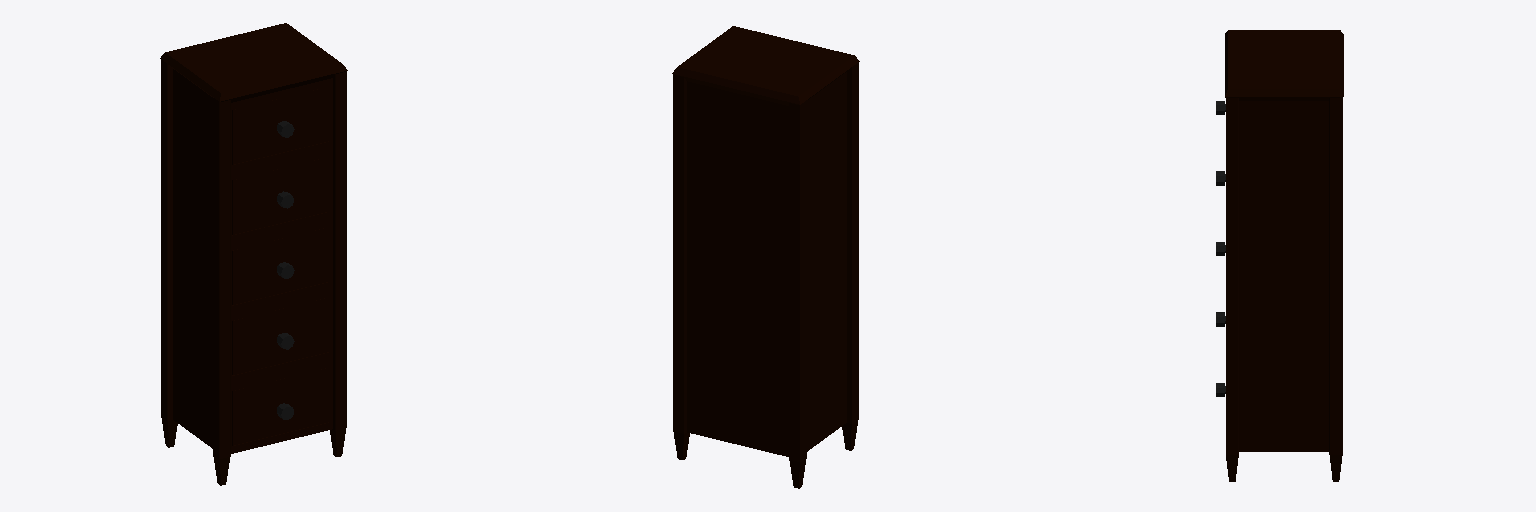
Rendered from LingerieDresser1.obj.
3 views of the same model, side by side, from view 1: azimuth 30°, elevation 25°; view 2: azimuth 150°, elevation 25°; view 3: azimuth 270°, elevation 25° (orthographic).
Parts seen in each view (by area): view 1: LingerieDresser1_Cube.016, Drawer5_LingerieDresser1_Cube.005, Drawer2_LingerieDresser1_Cube.002, Drawer3_LingerieDresser1_Cube.003, Drawer1_LingerieDresser1_Cube.001, Drawer4_LingerieDresser1_Cube.004; view 2: LingerieDresser1_Cube.016; view 3: LingerieDresser1_Cube.016.
Boxes of the visible parts, <box> form: LingerieDresser1_Cube.016: <box>160,23,347,485</box>; Drawer5_LingerieDresser1_Cube.005: <box>232,368,328,445</box>; Drawer2_LingerieDresser1_Cube.002: <box>232,157,328,234</box>; Drawer3_LingerieDresser1_Cube.003: <box>232,227,328,304</box>; Drawer1_LingerieDresser1_Cube.001: <box>232,87,328,164</box>; Drawer4_LingerieDresser1_Cube.004: <box>232,298,328,374</box>; LingerieDresser1_Cube.016: <box>672,26,859,488</box>; LingerieDresser1_Cube.016: <box>1225,30,1343,481</box>.
Bounding box in the file's own units: 0.4796 × 1.4 × 0.4122.